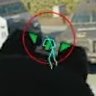hacks_2: (42, 35, 58, 69)
